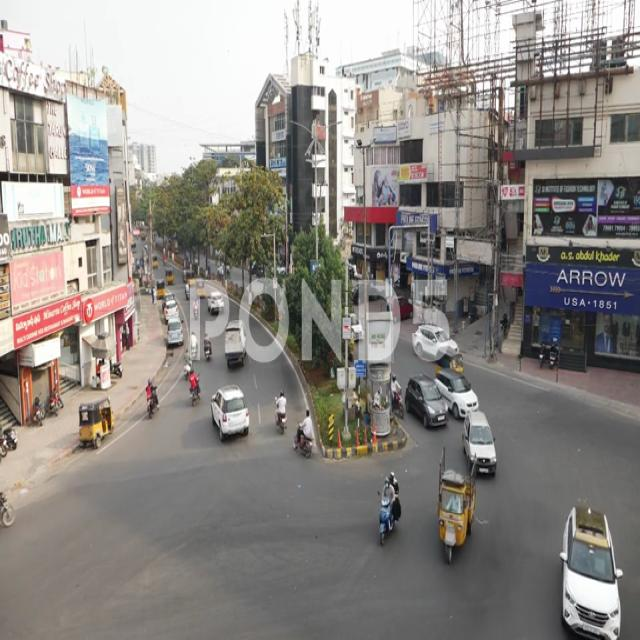car: (558, 499, 624, 640), (210, 386, 250, 447), (406, 374, 448, 428), (466, 416, 500, 477), (448, 374, 485, 420)
motorbike: (378, 471, 404, 549), (293, 408, 315, 460), (390, 372, 405, 422), (274, 386, 288, 435), (144, 379, 161, 417), (188, 372, 202, 414), (201, 332, 213, 364)
rikshaw: (79, 401, 115, 452)
truck: (433, 456, 474, 570), (226, 318, 247, 370)
